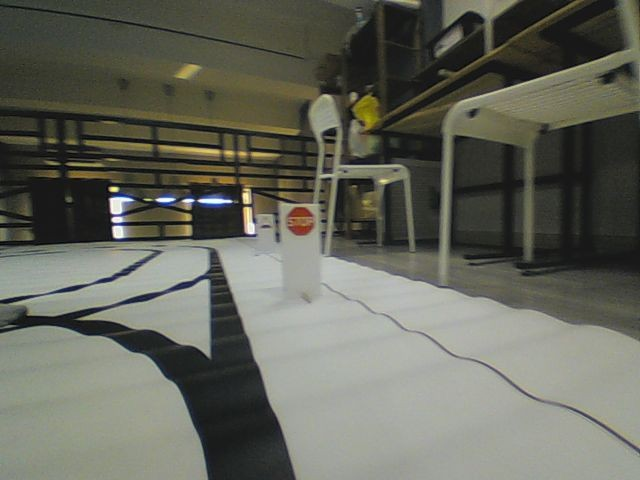Stop: (284, 205, 316, 236)
